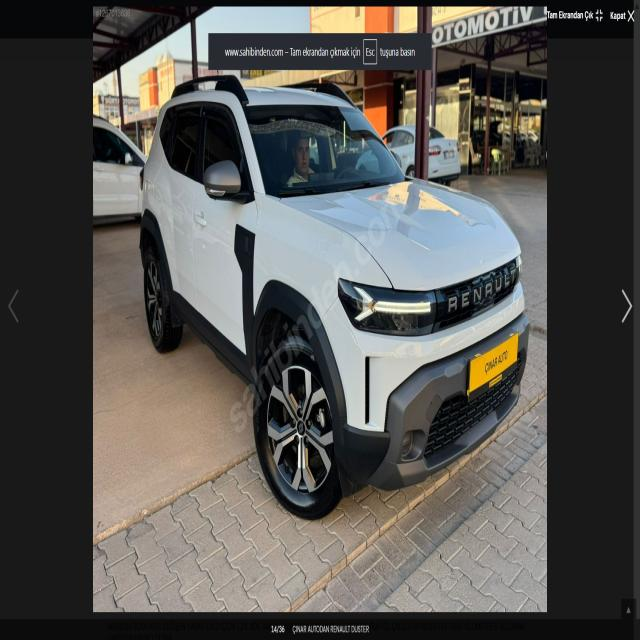renault: (445, 264, 521, 321)
